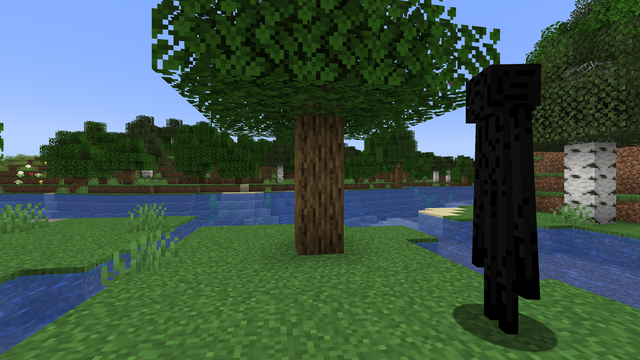endermens: (457, 50, 549, 342)
